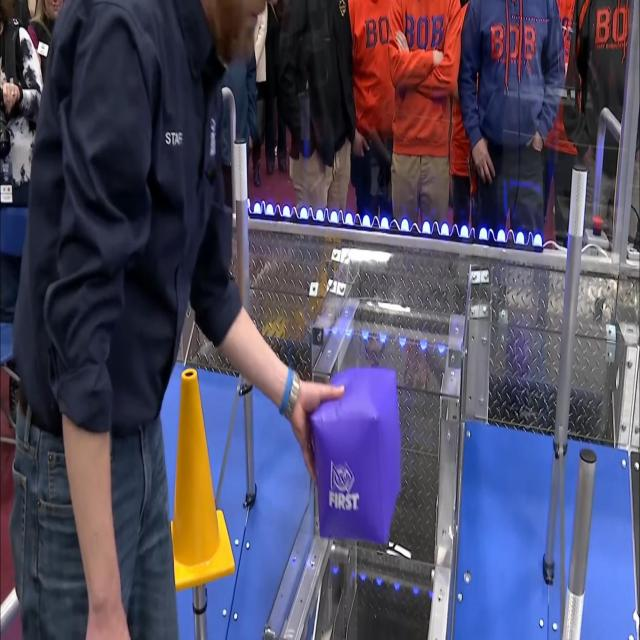frc_cone: (157, 361, 235, 598)
frc_cube: (312, 367, 403, 546)
